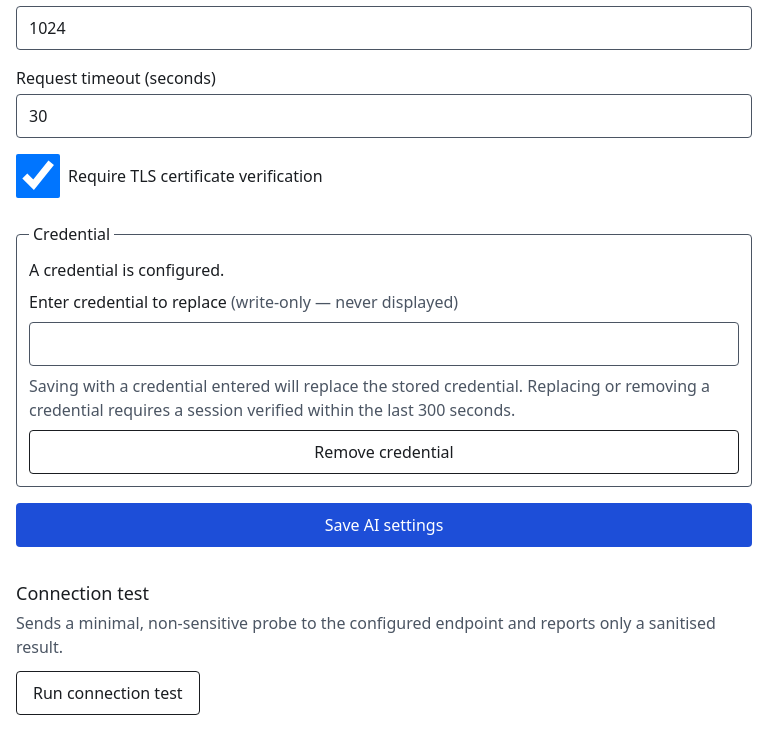
Test: AiSettings — connection test surfaces only sanitised results (Req 13.1, 25.7) › renders the sanitised outcome/status/model/round-trip/timestamp and no provider internals
The width and height of the screenshot is (769, 732).
(page scrolled)
Expected: the text "A credential is configured." is shown, [29,259,224,281]
Click the button "Run connection test": (108, 693) [16,671,200,715]
(page scrolled)
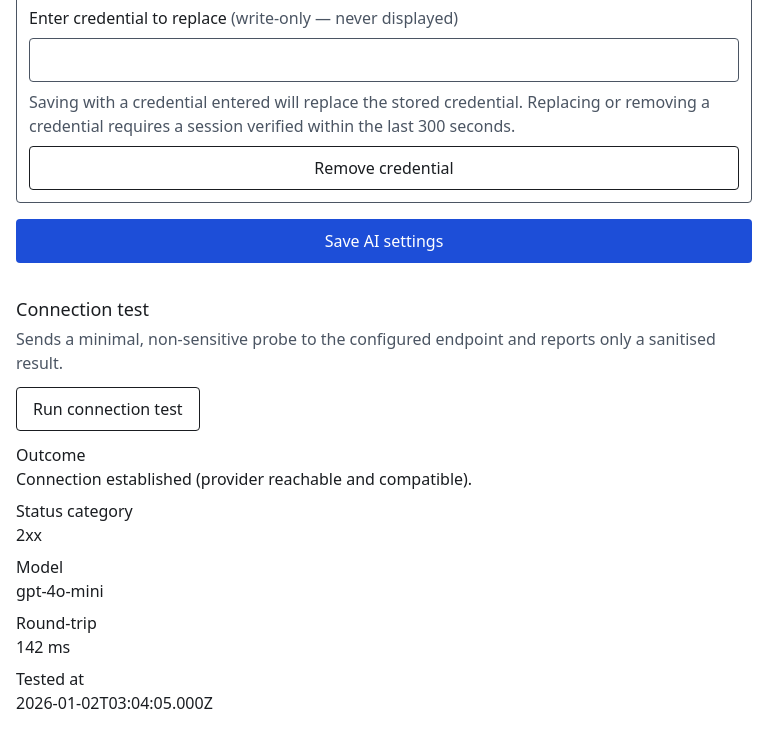
Now the text "Connection established (provider reachable and compatible)." is shown, box [16,468,472,490]
Now the text "2xx" is shown, box [16,524,42,546]
Now the text "gpt-4o-mini" is shown, box [16,580,104,602]
